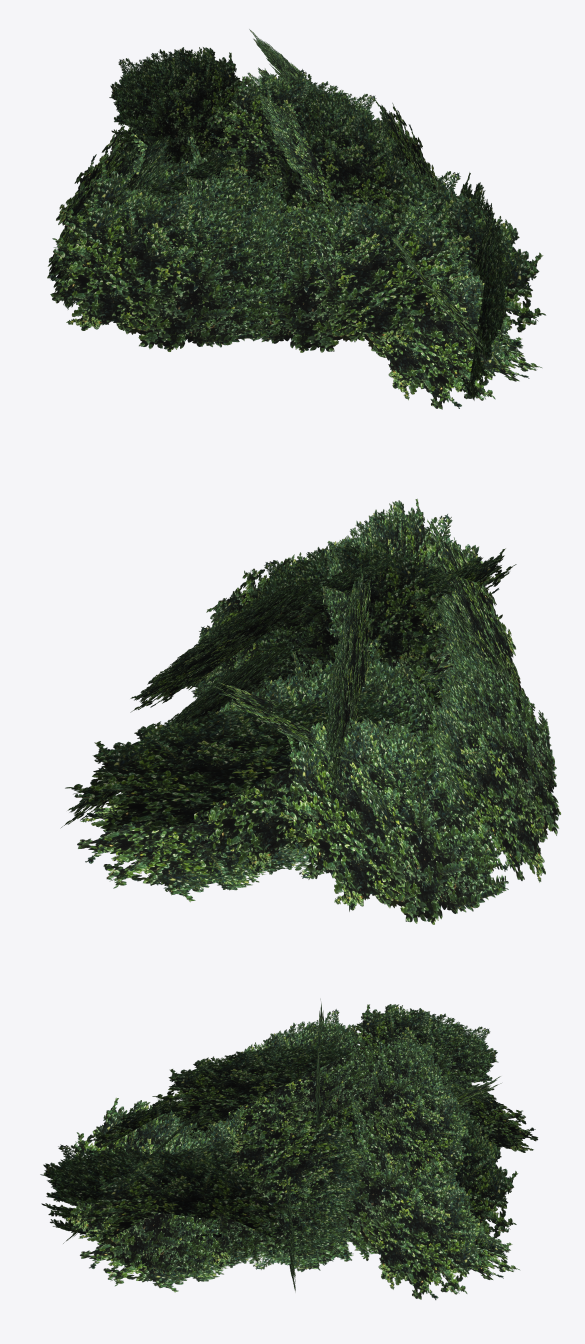
The model's file is Bush14.gltf.
3 renders of one model, top to bottom at view 1: azimuth 30°, elevation 25°; view 2: azimuth 150°, elevation 25°; view 3: azimuth 270°, elevation 25°, orthographic. The views are drawn at different scales.
Visible parts, largest first — view 1: MushBig; view 2: MushBig; view 3: MushBig.
Boxes of the visible parts, box(x1,y1,x2,y2) form: MushBig: box(47, 29, 545, 409); MushBig: box(61, 499, 560, 924); MushBig: box(40, 999, 537, 1299).
Size of the model in its own units: 62.85 by 42.89 by 85.48.
Materials: 1 (1 with a texture image).
